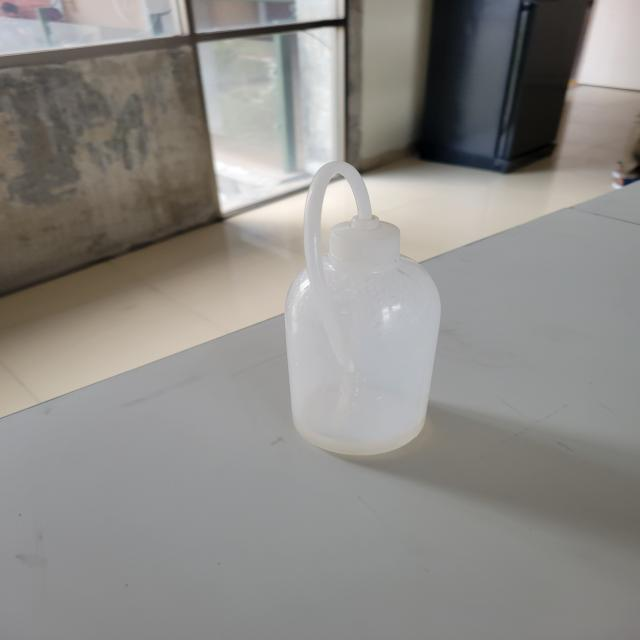Wash_Bottle: (248, 129, 479, 484)
